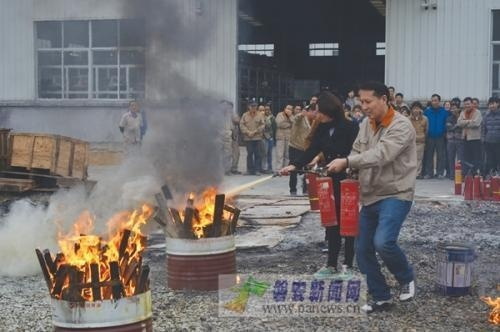fire: (50, 203, 152, 299), (174, 186, 223, 234), (483, 287, 500, 327)
